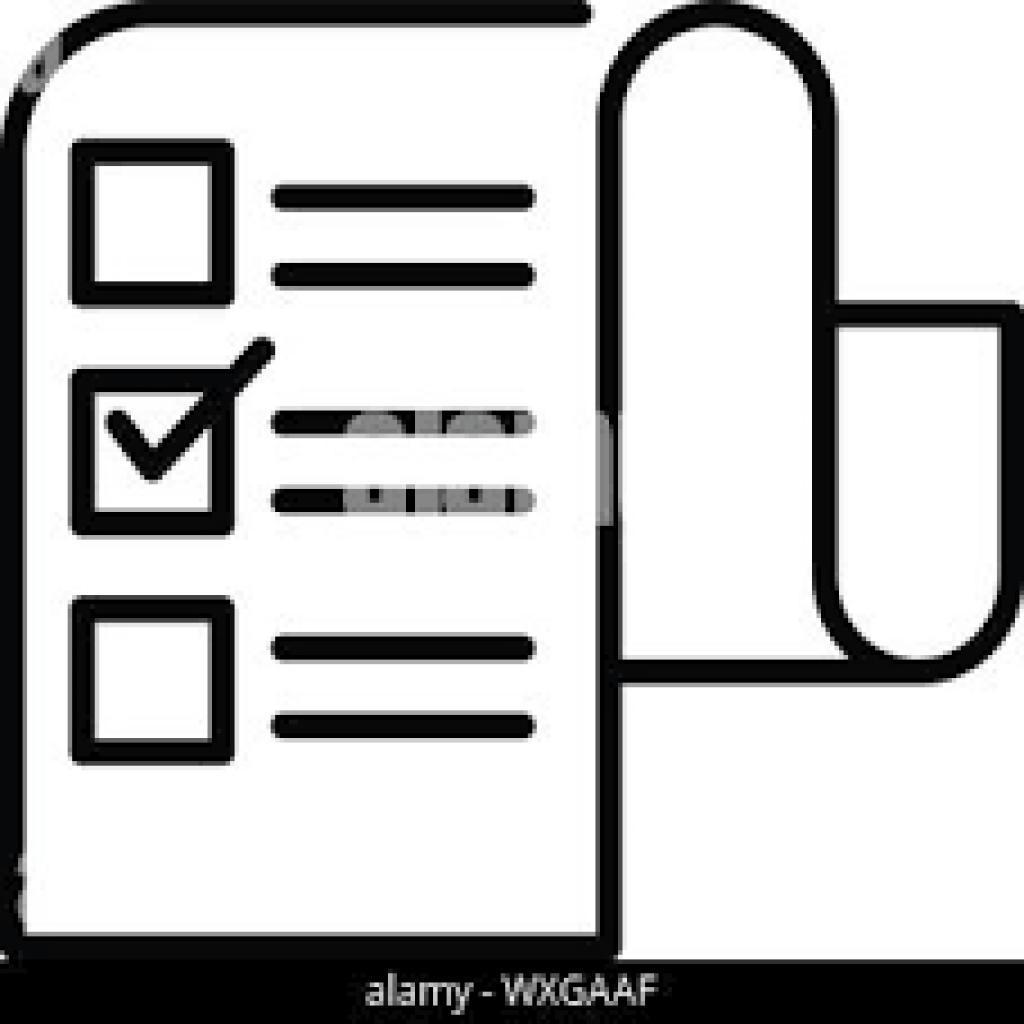checkbox: (68, 595, 239, 767), (68, 139, 235, 307), (69, 370, 236, 538)
